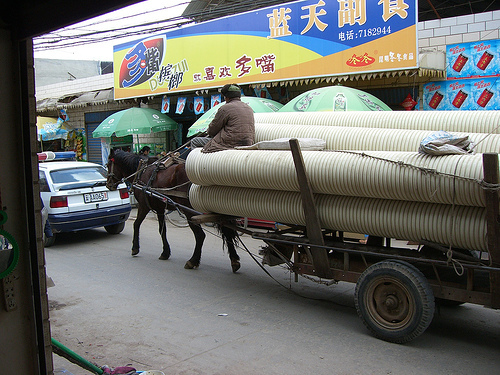horse: (104, 144, 244, 273)
